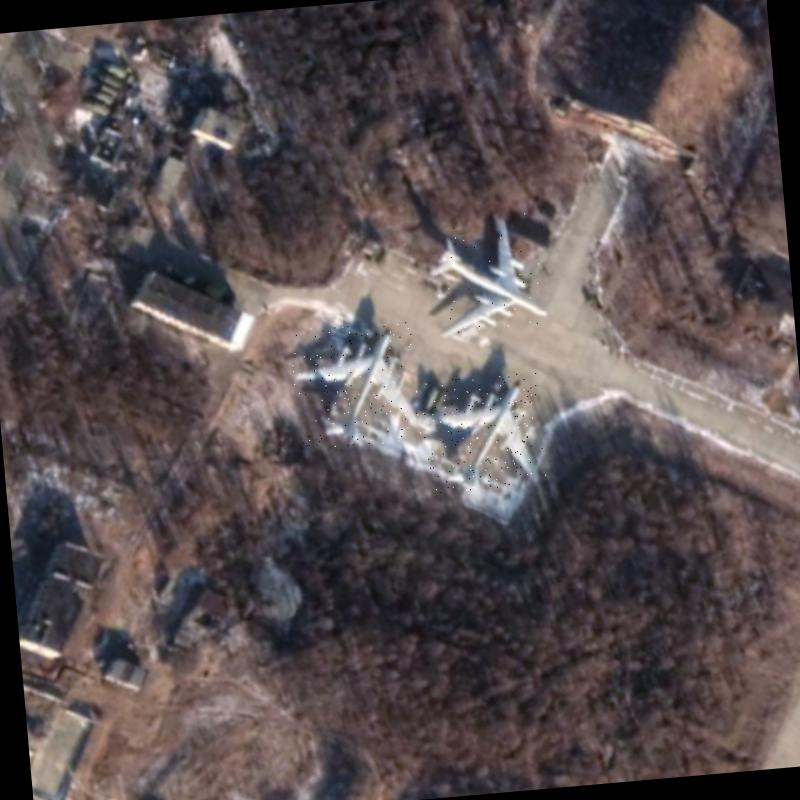A17: (290, 320, 424, 450), (427, 210, 554, 340), (419, 372, 546, 494)
